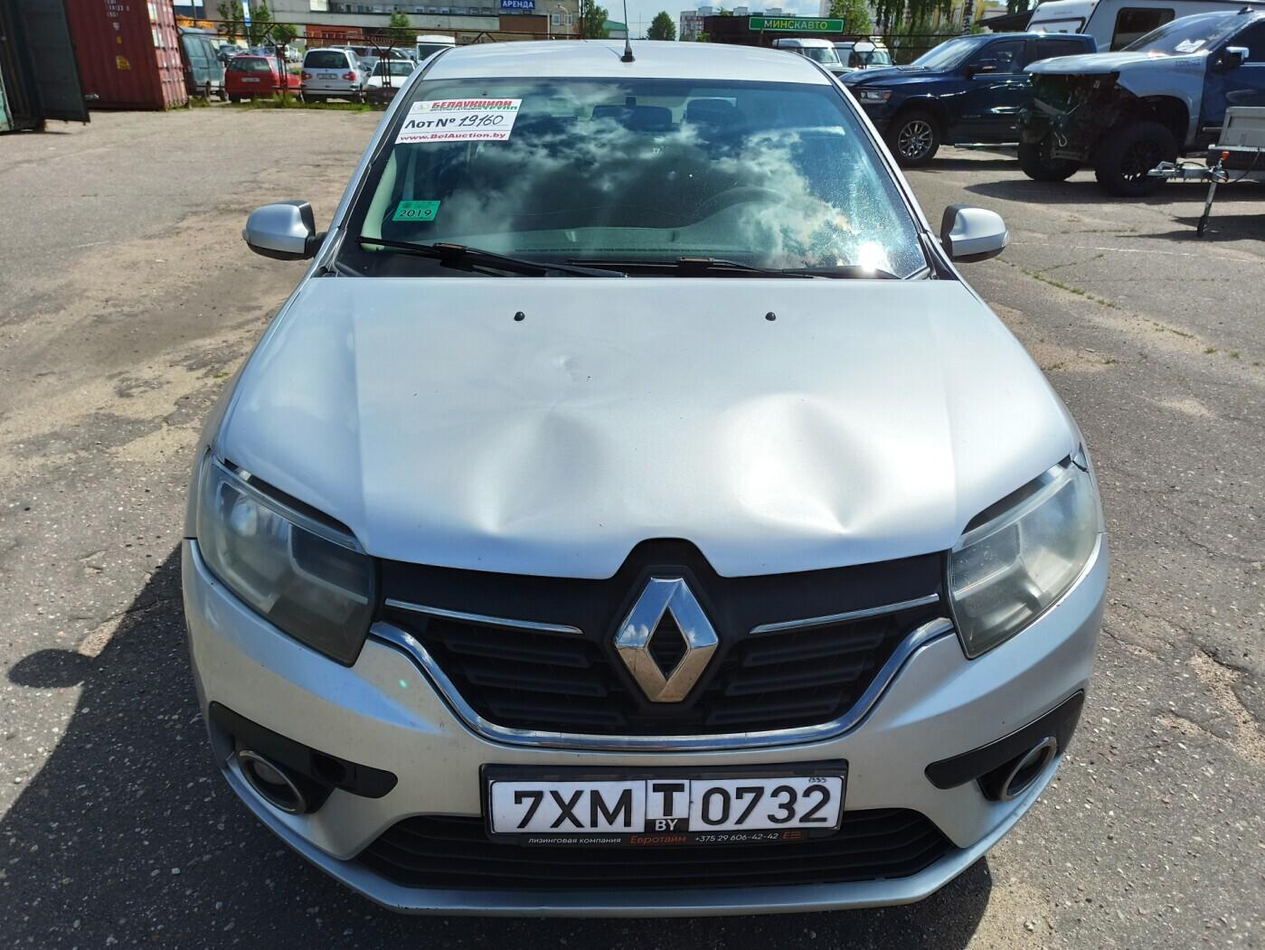Logan_2018: (171, 32, 1116, 914)
